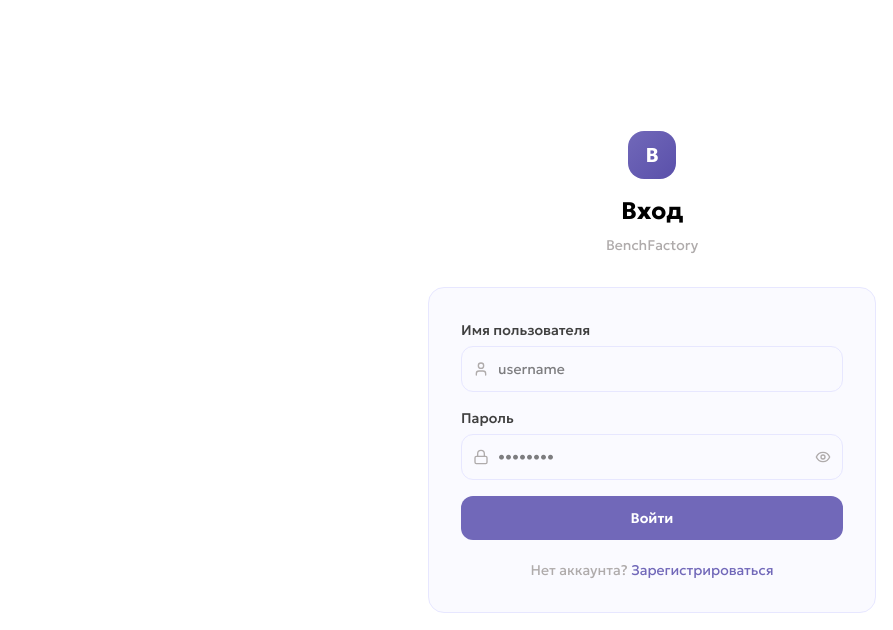
Scenario: login purges the previous account query cache › rejects old fetchQuery consumers and ignores a late response after removal
The image size is (893, 630).
Expected: the button "Войти" is shown, [461,496,843,540]
Type "bob" into the field named "username". click: (652,369)
box: [461,346,843,392]
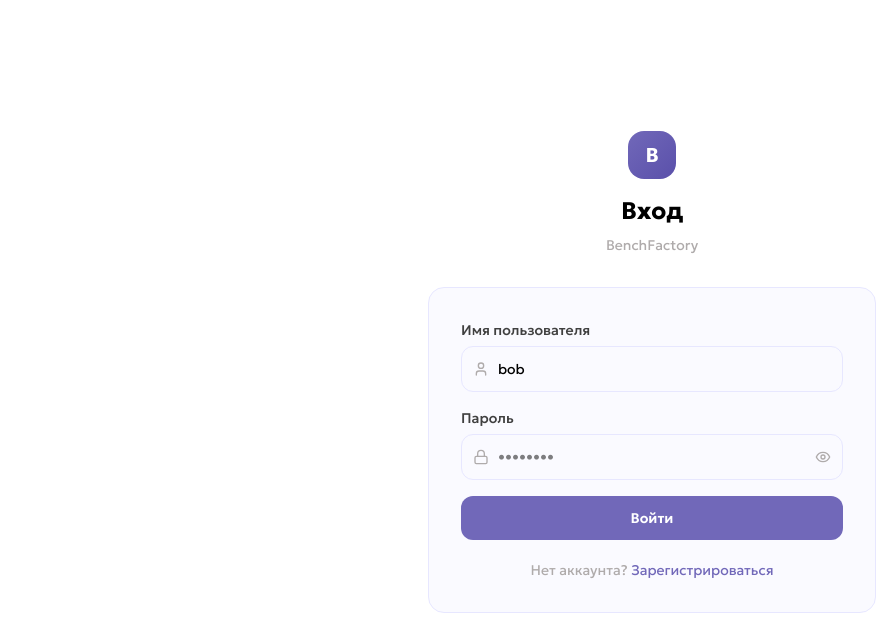
Type "Synthetic-2026!" into the password field named "password". click: (652,457)
box: [461,434,843,480]
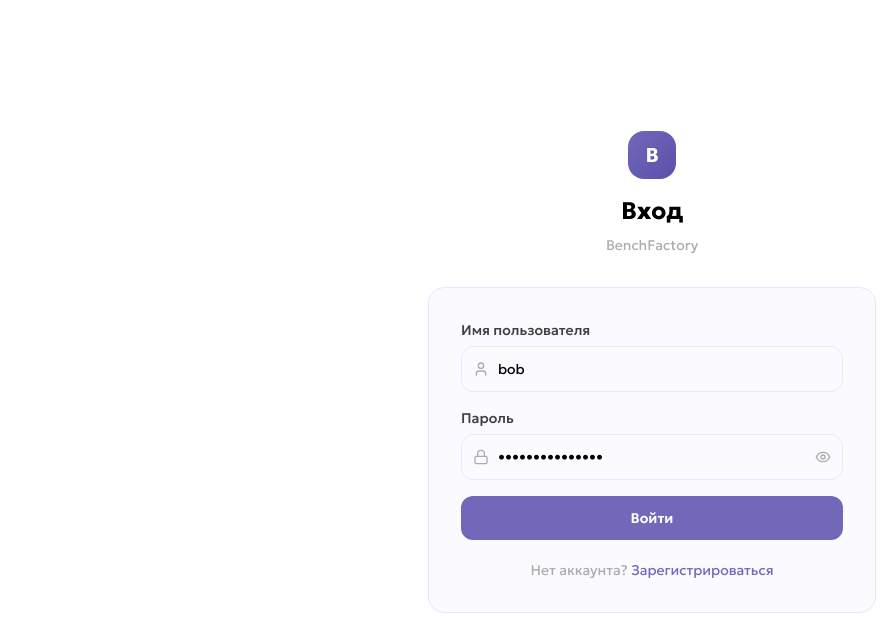
Click the button "Войти". click: (652,518)
box: [461,496,843,540]
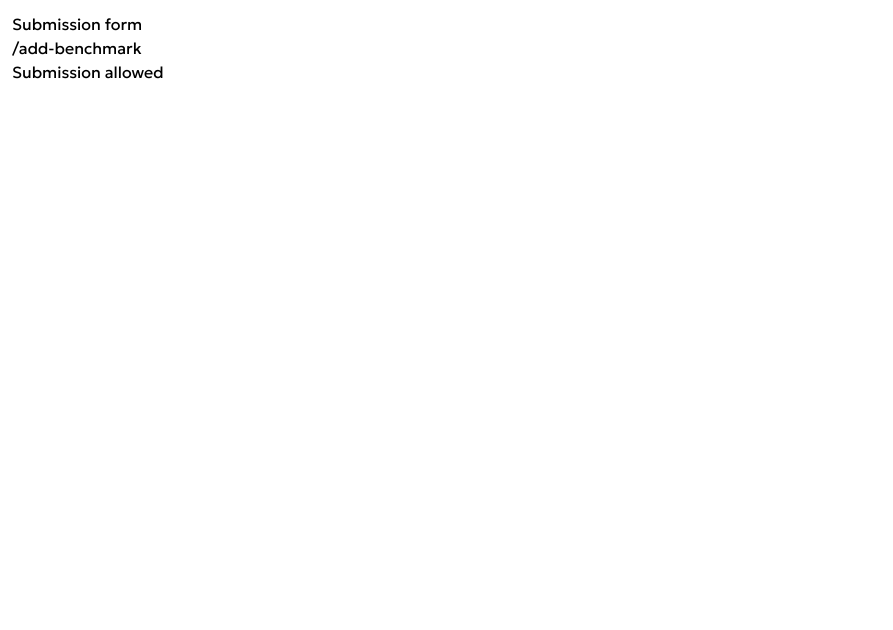
Now the heading "Submission form" is shown, box [12,14,142,34]
